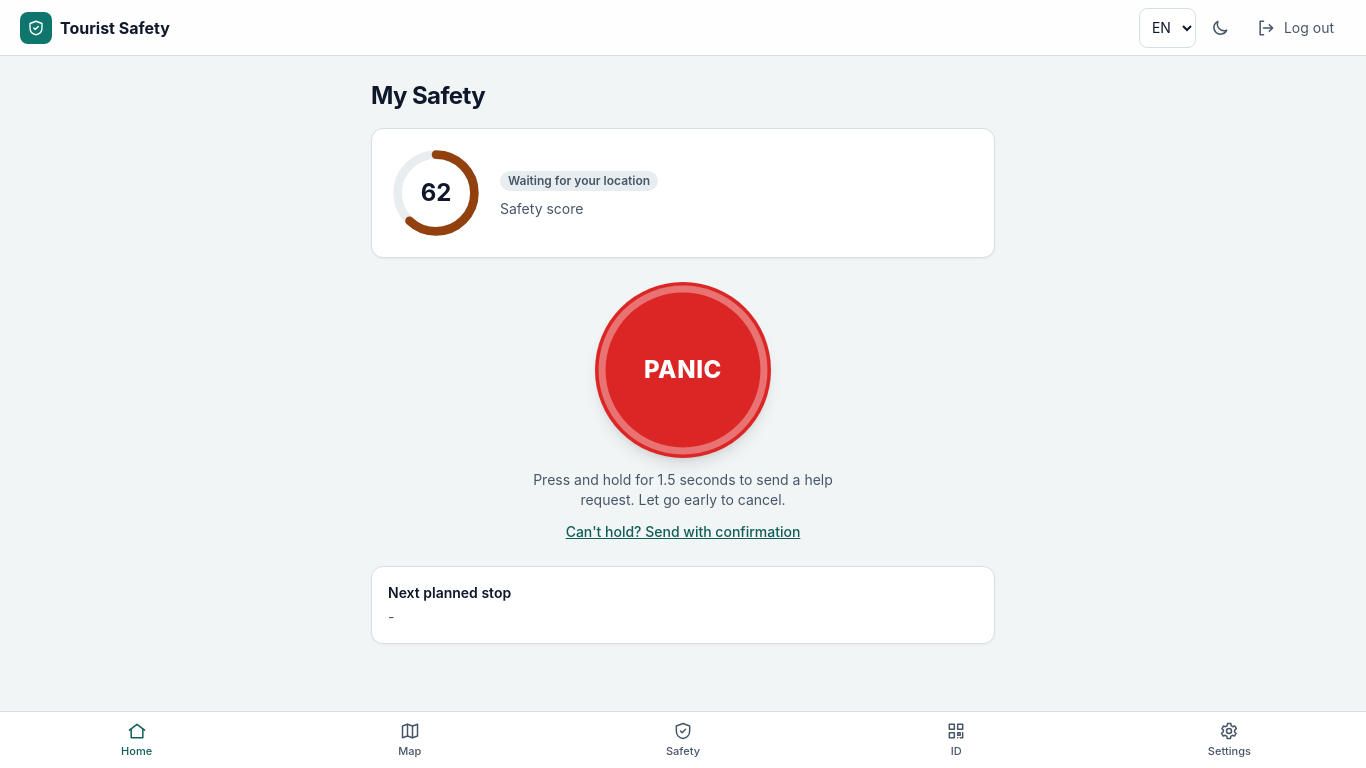
Scenario: an accidental press can be cancelled while the request is still unseen
Expected: the heading "My Safety" is shown, [371,80,485,112]
Expected: the text "Waiting for your location" is shown, [500,171,658,191]
Click the button "Can't hold? Send with confirmation" at (683, 532), box [566,522,800,542]
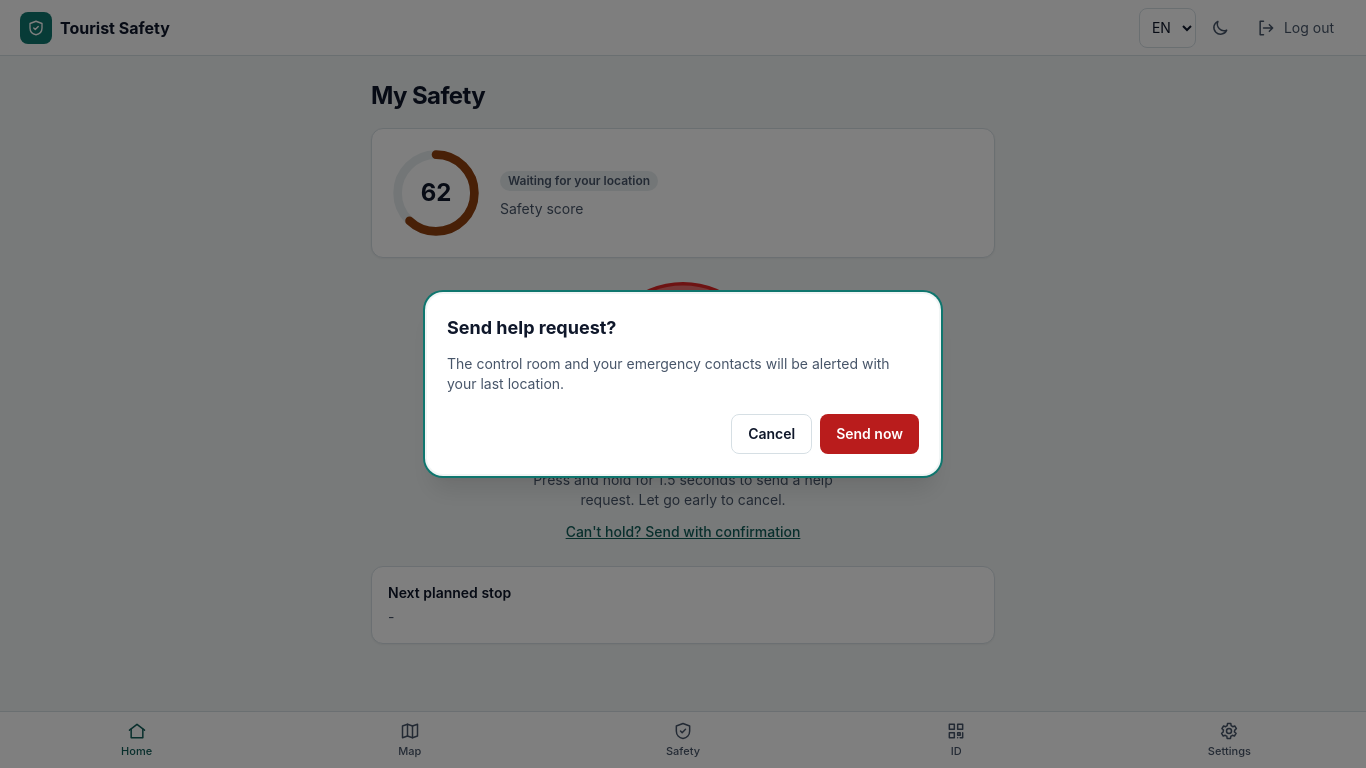
Click the button "Send now" at (870, 434), box [820,414,919,454]
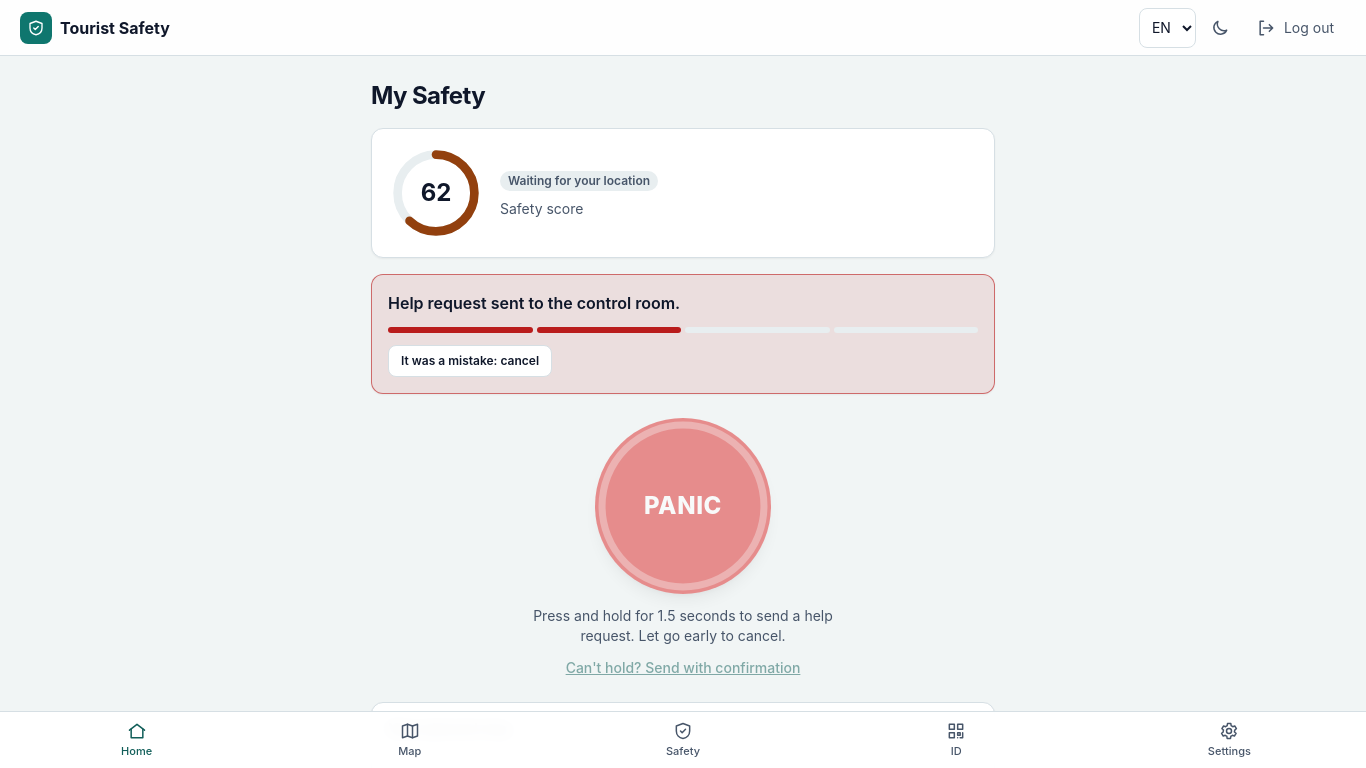
Click the button "It was a mistake: cancel" at (470, 361), box [388,345,552,377]
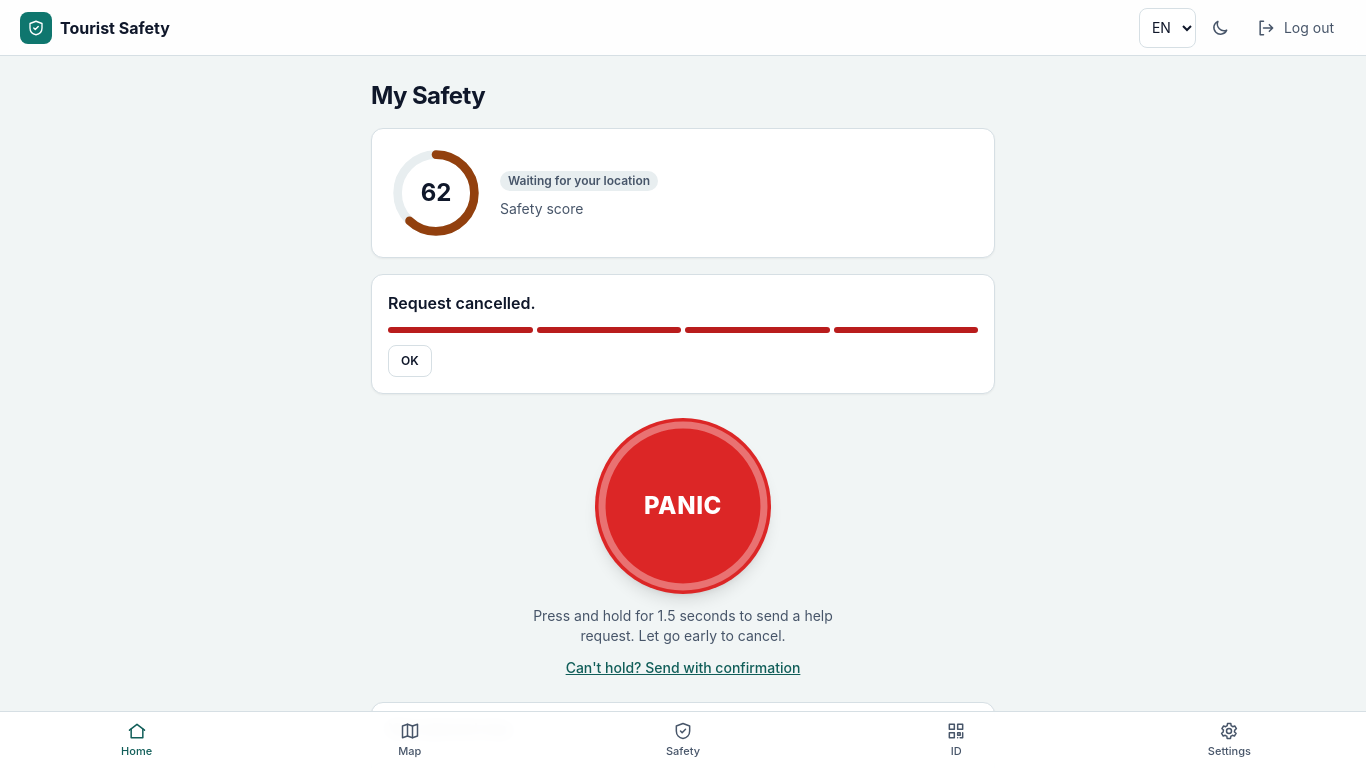
Expected: the text "Request cancelled." is shown, [388,293,536,313]
Click the button "OK" at (410, 361), box [388,345,432,377]
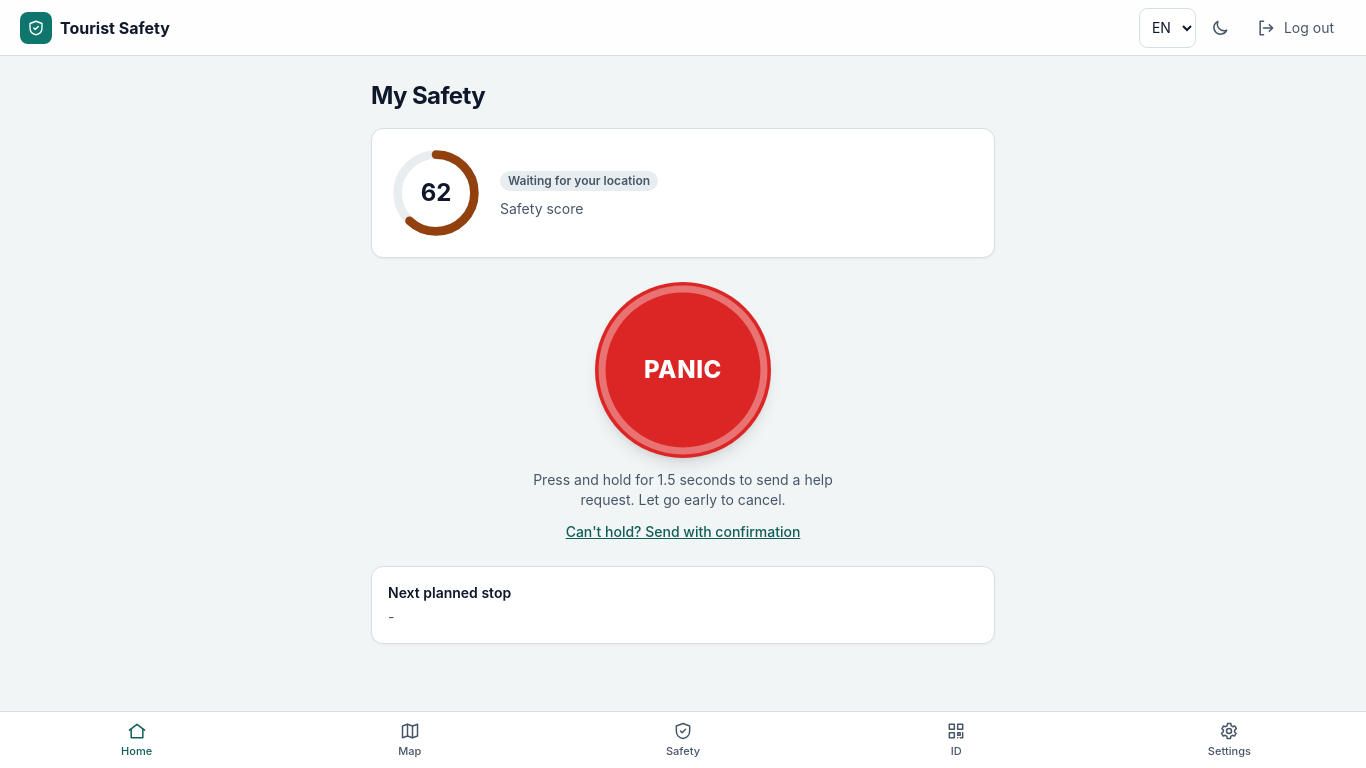
Expected: the button "PANIC" is enabled, [595,282,771,458]
Expected: the text "Request cancelled." is gone
